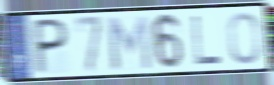6: (150, 11, 185, 72)
7: (74, 13, 104, 75)
L: (190, 14, 223, 66)
M: (104, 13, 154, 72)
O: (226, 10, 262, 66)
P: (33, 17, 71, 77)
